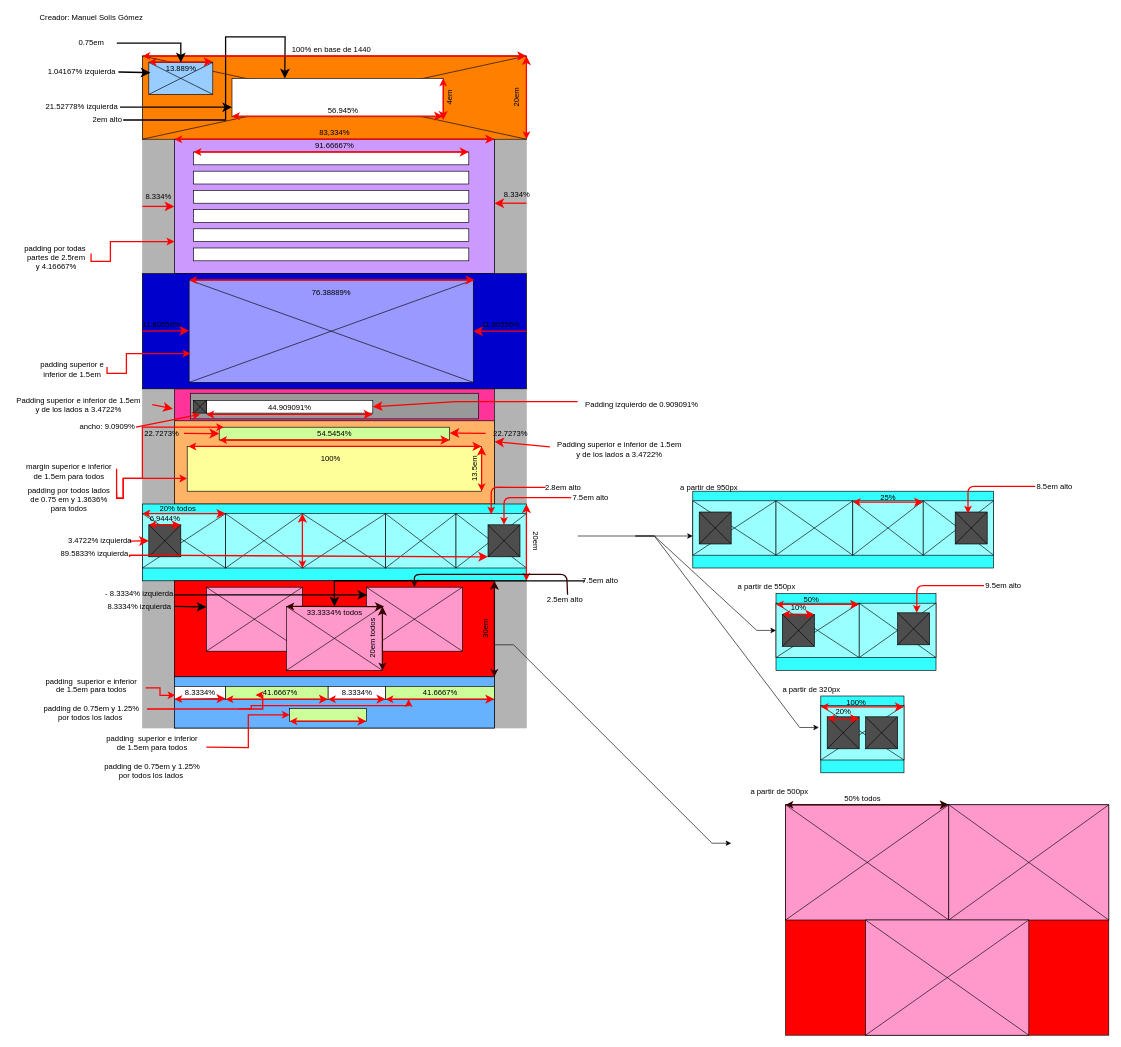
The diagram is 1121 pixels wide and 1047 high, and some of its shapes have lost their labels. The shapes that lost their labels are listed below. From the top down, each one's box as (x1, y1, x2, y2) in pixels, then its label:
(225, 513, 302, 568): 14.4em todos
(289, 708, 366, 721): 350px
